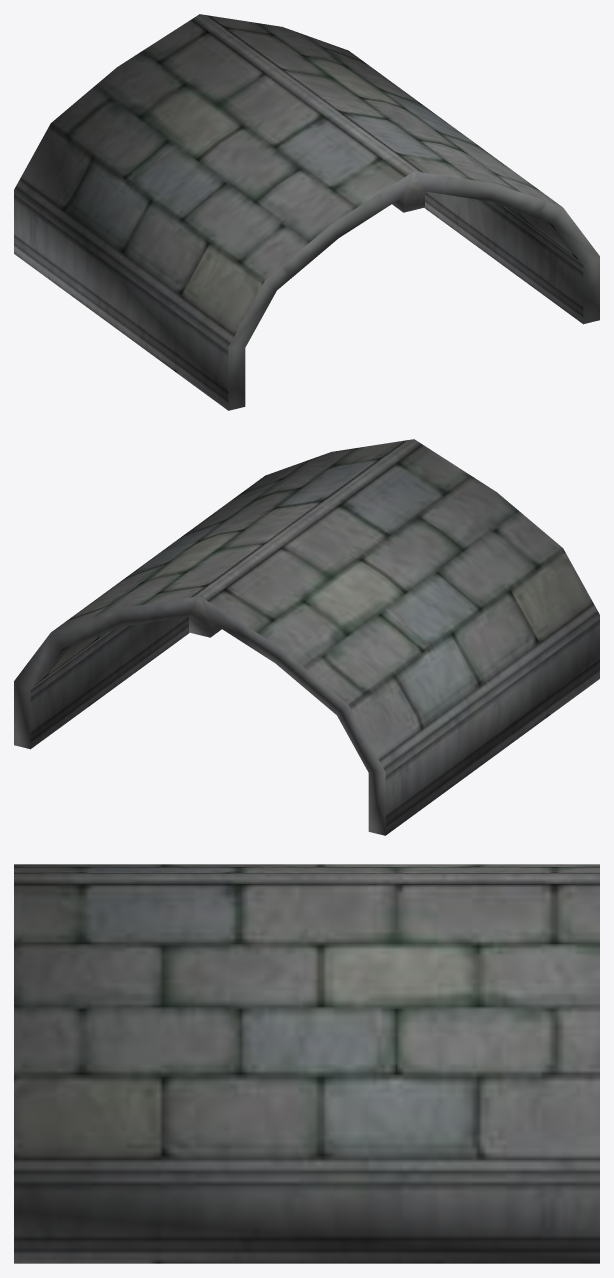
The model's file is sd_barrel_ceiling_large_01.glb.
3 views of the same model, one above another, from view 1: azimuth 30°, elevation 25°; view 2: azimuth 150°, elevation 25°; view 3: azimuth 270°, elevation 25° (orthographic). The views are drawn at different scales.
Parts seen in each view (by area): view 1: barrel_ceiling_large_01; view 2: barrel_ceiling_large_01; view 3: barrel_ceiling_large_01.
Part boxes in pixels (box(x1,y1,x2,y2)): barrel_ceiling_large_01: box(14, 14, 599, 410); barrel_ceiling_large_01: box(14, 439, 599, 835); barrel_ceiling_large_01: box(14, 864, 599, 1263).
Bounding box in the file's own units: 4 × 2 × 4.
Materials: 1 (1 with a texture image).
